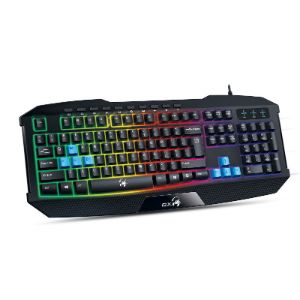keyboard: (17, 89, 291, 224)
